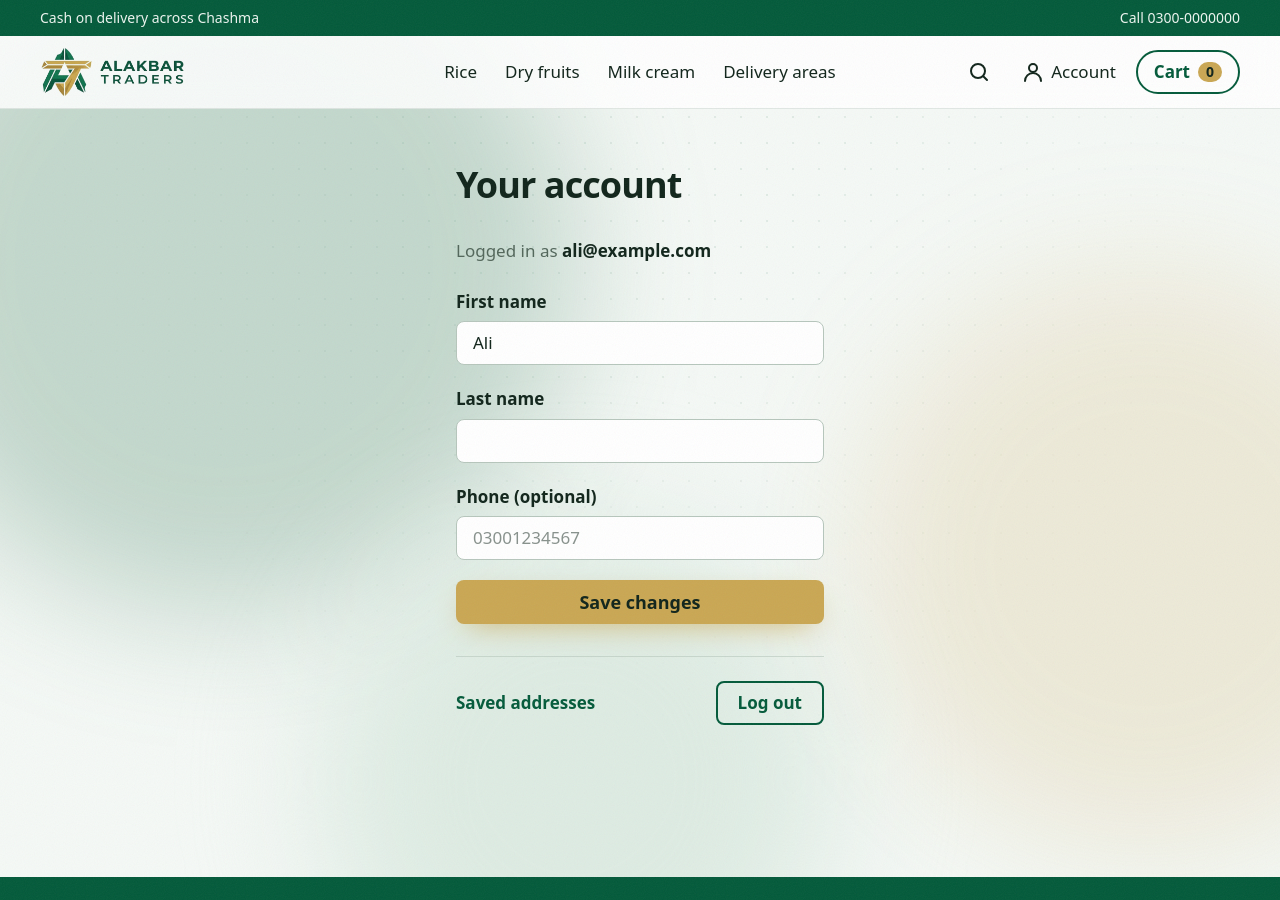
Test case: profile page › marks a phone Django refused
Step 1. Type "123" into the field labelled "Phone (optional)" → (640, 538), box left=456, top=516, right=824, bottom=560
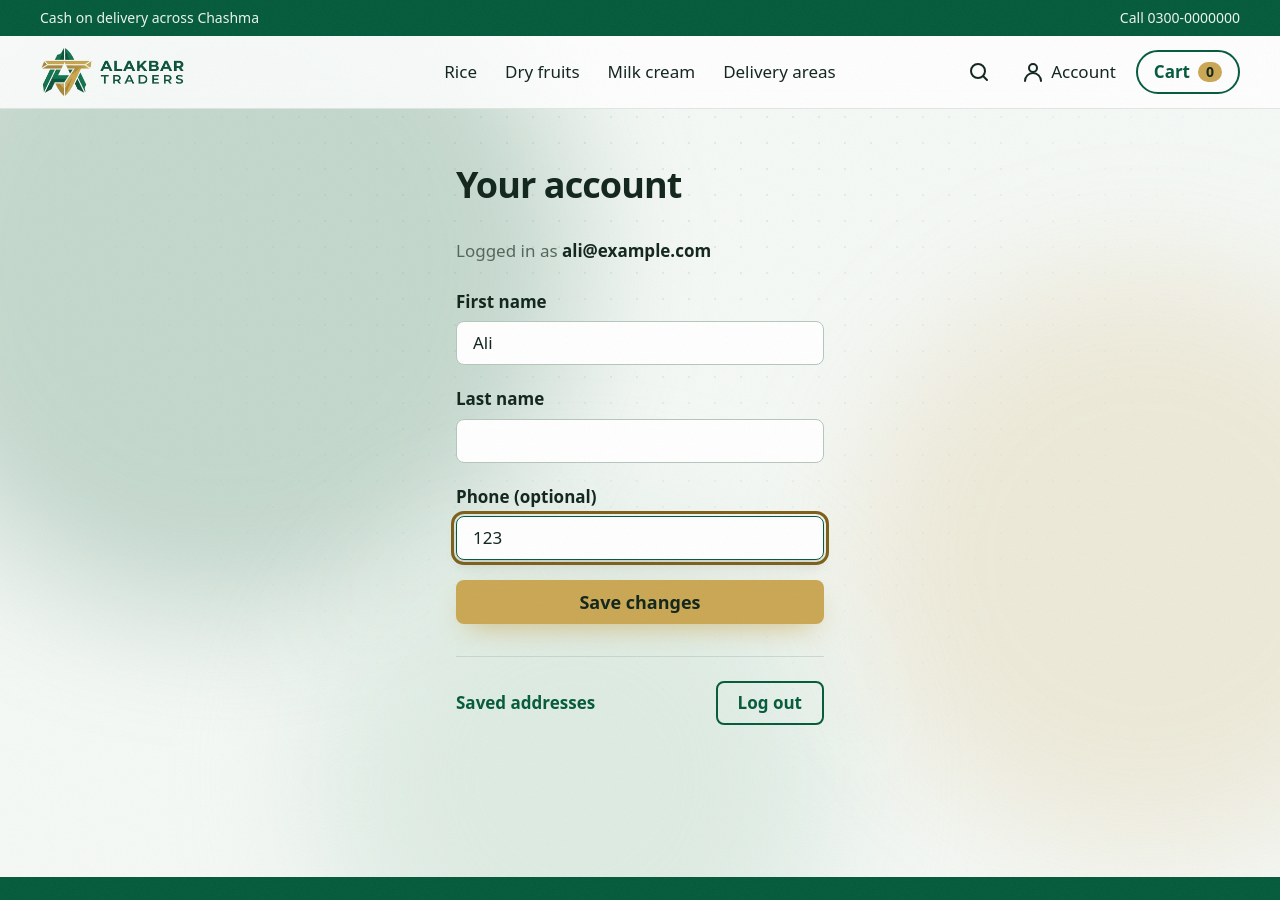
Step 2. Click the button "Save changes" → (640, 602), box left=456, top=580, right=824, bottom=624
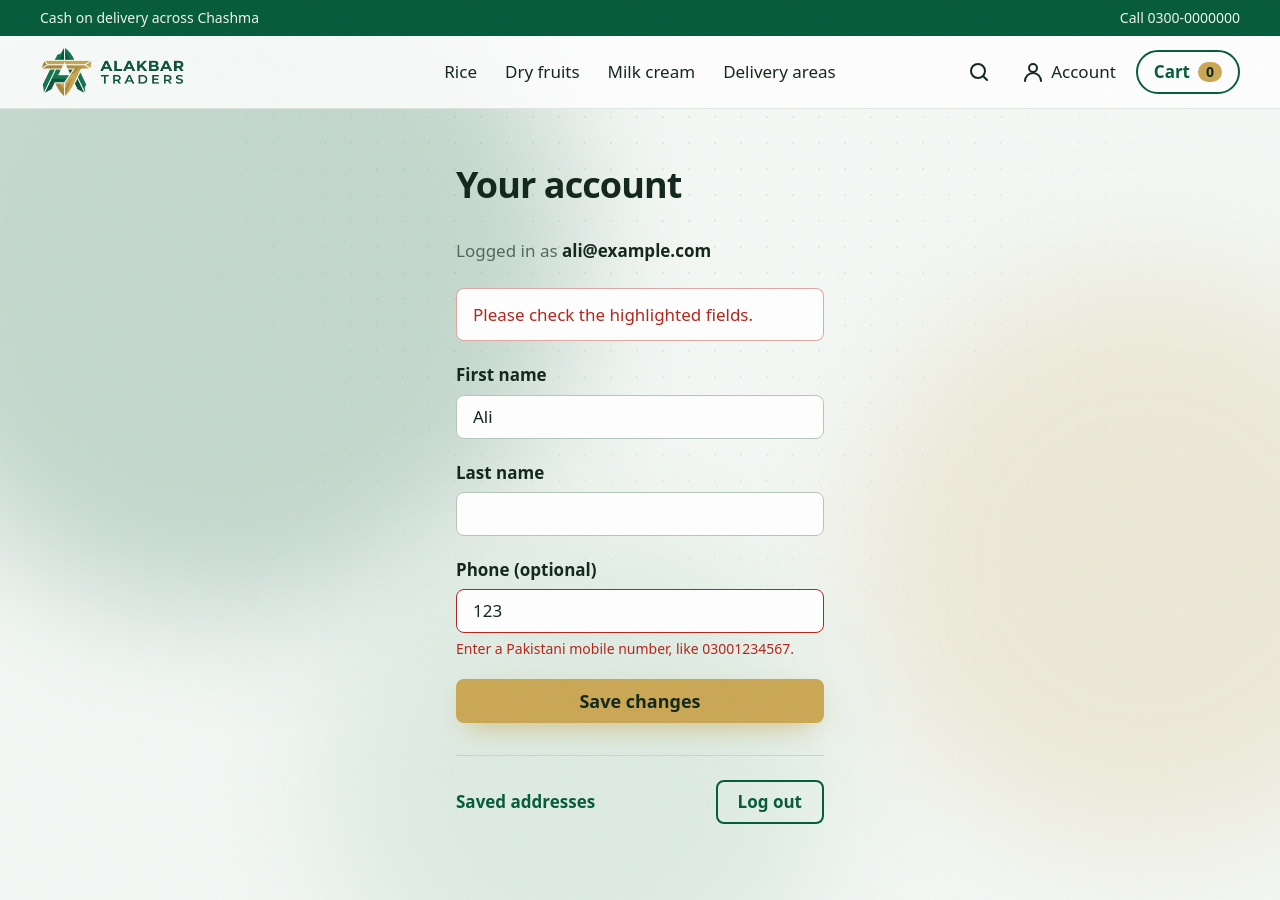
Expected: the list item "Enter a Pakistani mobile number, like 03001234567." is shown, left=456, top=639, right=824, bottom=659
